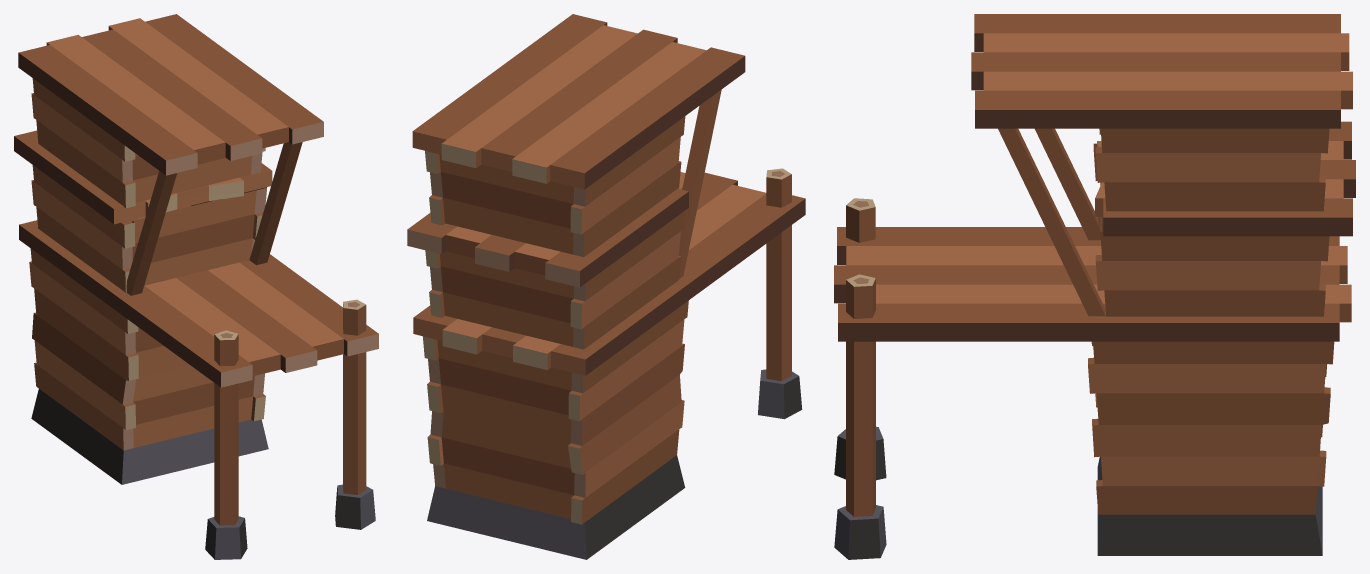
File: TB_Bd_Wood_Tall.FBX
3 renders of one model, left to right at view 1: azimuth 30°, elevation 25°; view 2: azimuth 150°, elevation 25°; view 3: azimuth 270°, elevation 25°, orthographic. The views are drawn at different scales.
Parts seen in each view (by area): view 1: TB_Bd_Wood_Tall; view 2: TB_Bd_Wood_Tall; view 3: TB_Bd_Wood_Tall.
Boxes of the visible parts, x1,y1,x2,y2 form: TB_Bd_Wood_Tall: (14, 14, 378, 559); TB_Bd_Wood_Tall: (407, 14, 805, 559); TB_Bd_Wood_Tall: (834, 14, 1355, 559).
Size of the model in its own units: 2.91 by 6.27 by 6.59.
